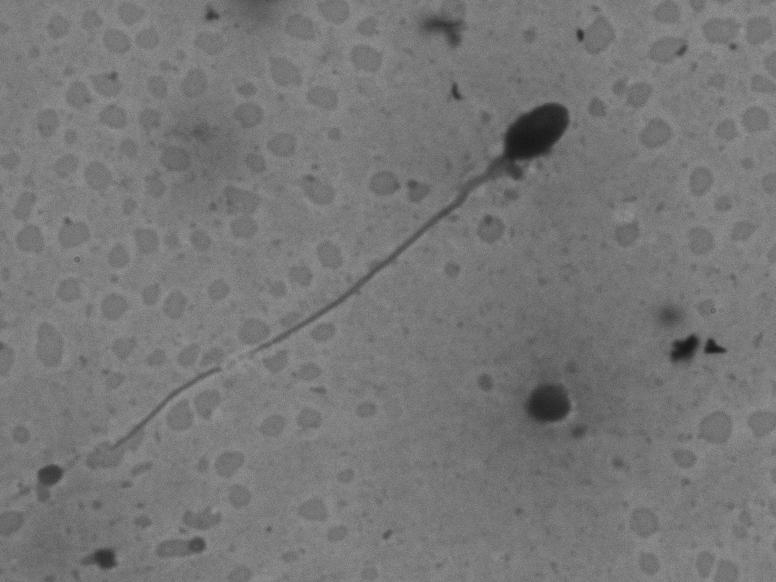Abnormal: (72, 70, 594, 470)
